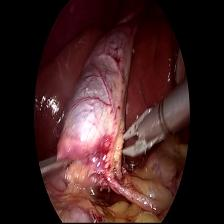Clipper: (118, 102, 163, 162)
